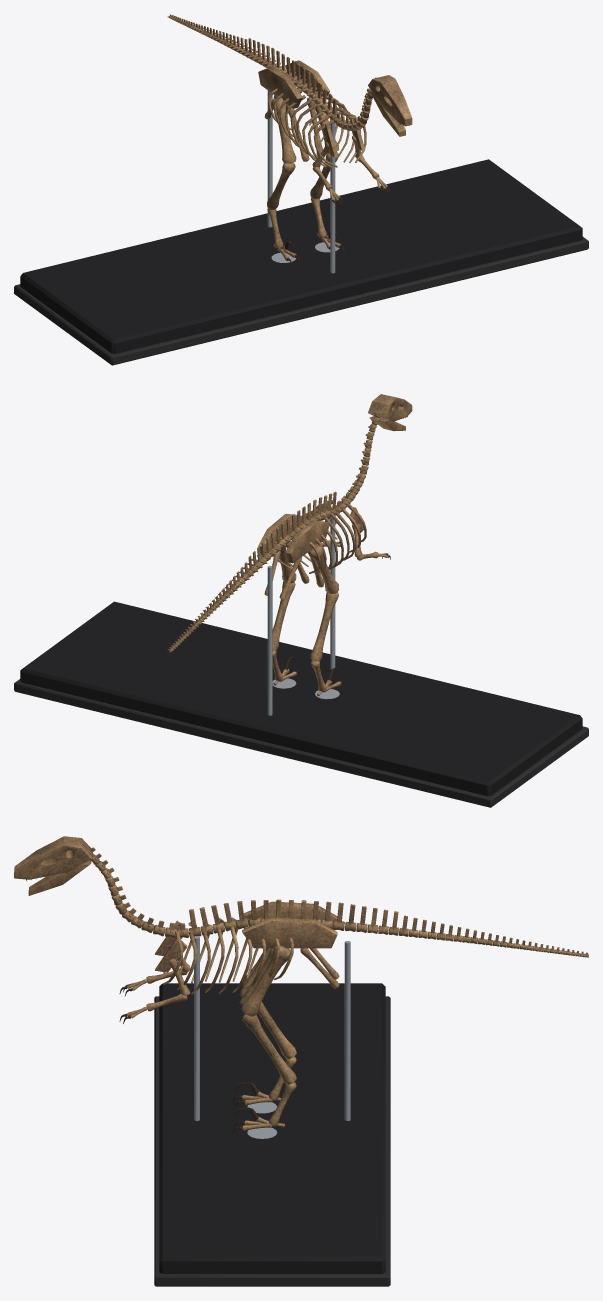
File: raptor-skeleton-mount.glb
3 views of the same model, one above another, from view 1: azimuth 30°, elevation 25°; view 2: azimuth 150°, elevation 25°; view 3: azimuth 270°, elevation 25° (orthographic). The views are drawn at different scales.
Parts seen in each view (by area): view 1: Raptor_Skeleton_Mount; view 2: Raptor_Skeleton_Mount; view 3: Raptor_Skeleton_Mount.
Boxes of the visible parts, left/top/right/bottom form: Raptor_Skeleton_Mount: left=14, top=14, right=588, bottom=365; Raptor_Skeleton_Mount: left=14, top=394, right=588, bottom=807; Raptor_Skeleton_Mount: left=14, top=836, right=588, bottom=1286.
Bounding box in the file's own units: 2.64 × 1.35 × 2.29.
6 materials, 1 textured.
